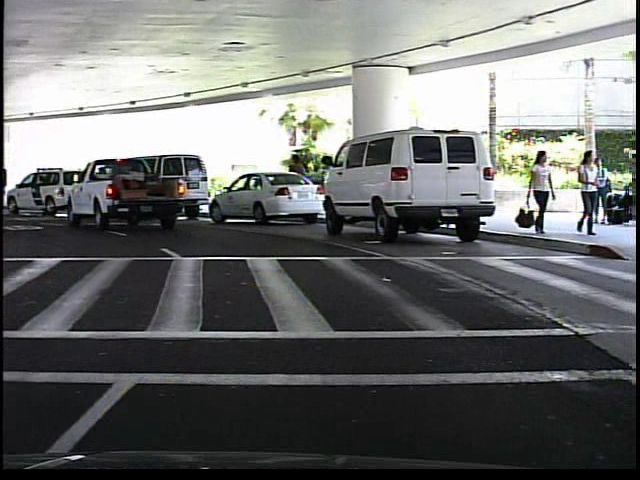person: (525, 145, 556, 234), (574, 148, 603, 238), (286, 150, 311, 213), (595, 155, 615, 227)
